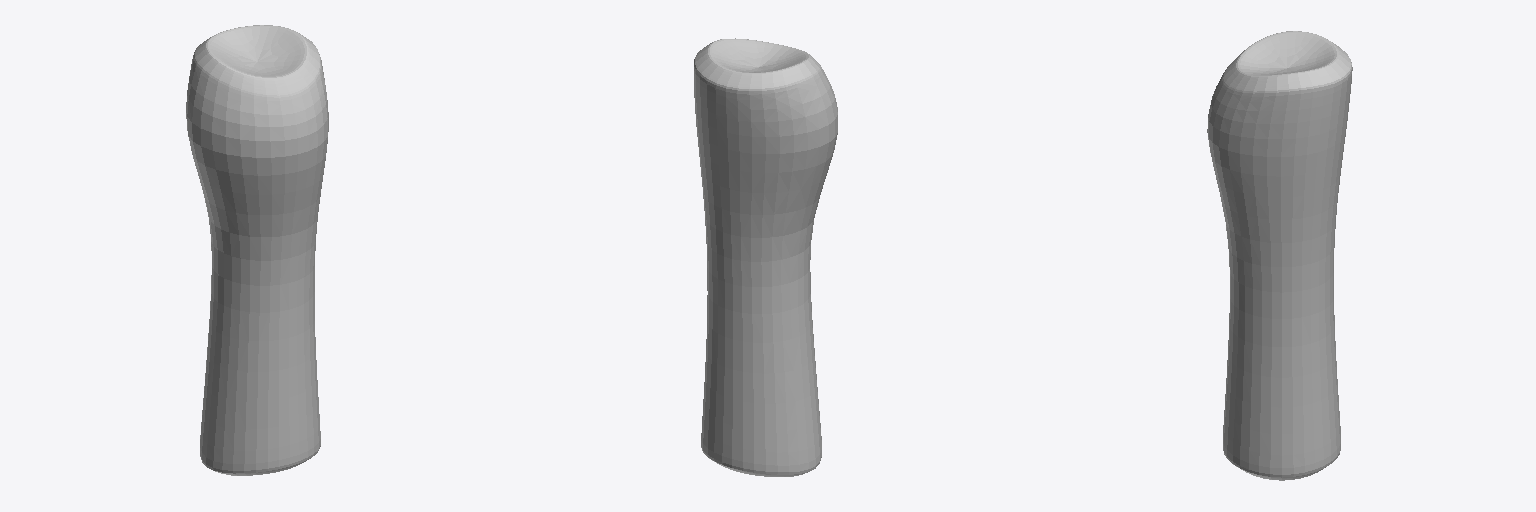
The model's file is ArmL.obj.
The picture shows the model from 3 angles: view 1: azimuth 30°, elevation 25°; view 2: azimuth 150°, elevation 25°; view 3: azimuth 270°, elevation 25°; orthographic projection.
Visible parts, largest first — view 1: GEO-Body.003_Body.003; view 2: GEO-Body.003_Body.003; view 3: GEO-Body.003_Body.003.
Part boxes in pixels (left/top/right/bottom): GEO-Body.003_Body.003: left=186, top=25, right=328, bottom=475; GEO-Body.003_Body.003: left=694, top=38, right=837, bottom=476; GEO-Body.003_Body.003: left=1207, top=31, right=1352, bottom=480.
Bounding box in the file's own units: 0.0756 × 0.2391 × 0.0761.